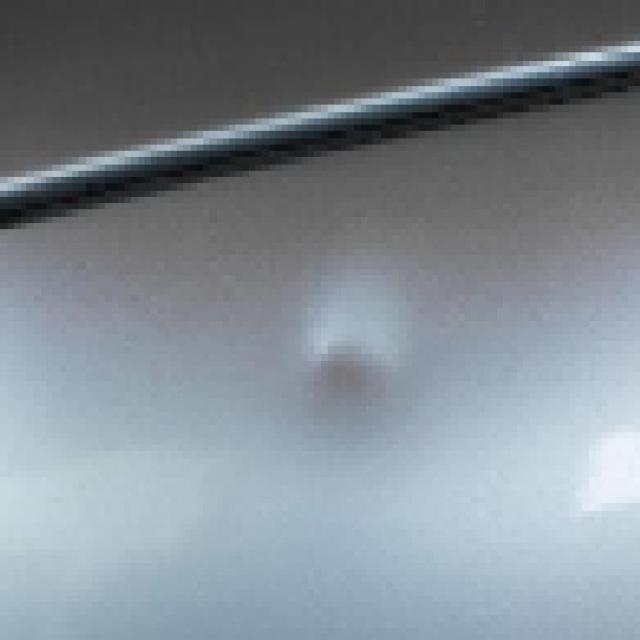dent: (291, 316, 422, 450)
